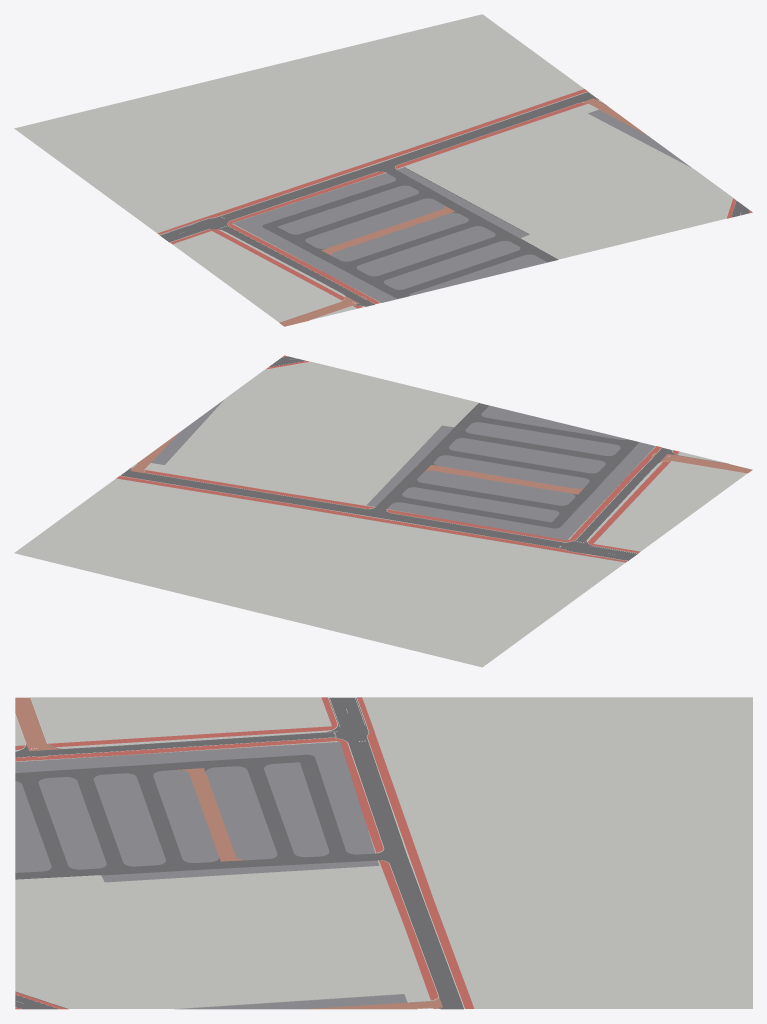
Rendered from ground_10_6.glb.
The picture shows the model from 3 angles, top to bottom: view 1: azimuth 30°, elevation 25°; view 2: azimuth 150°, elevation 25°; view 3: azimuth 270°, elevation 25°; orthographic projection. The views are drawn at different scales.
Visible parts, largest first — view 1: ground_10_6; view 2: ground_10_6; view 3: ground_10_6.
Part boxes in pixels (x1,y1,x2,y2): ground_10_6: (14,14,752,326); ground_10_6: (14,355,752,667); ground_10_6: (15,696,752,1009).
Bounding box in the file's own units: 201 × 0.12 × 200.
